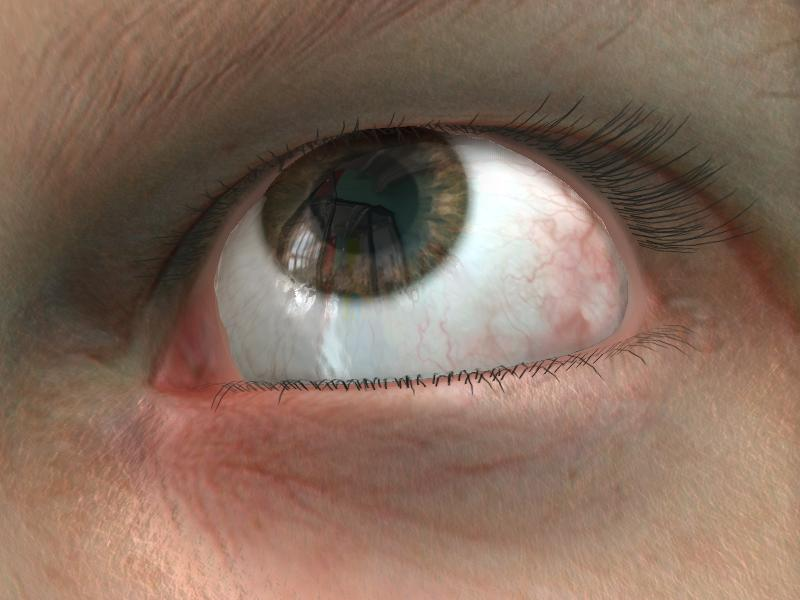eye: (261, 124, 468, 303)
